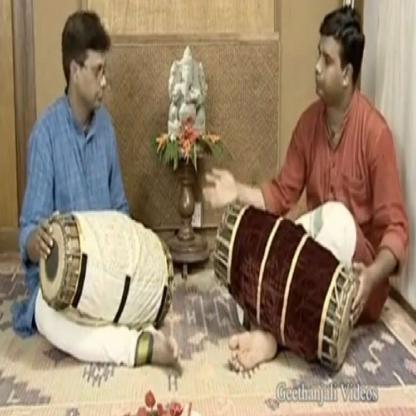Mridangam: (211, 192, 370, 376), (34, 198, 179, 333)
